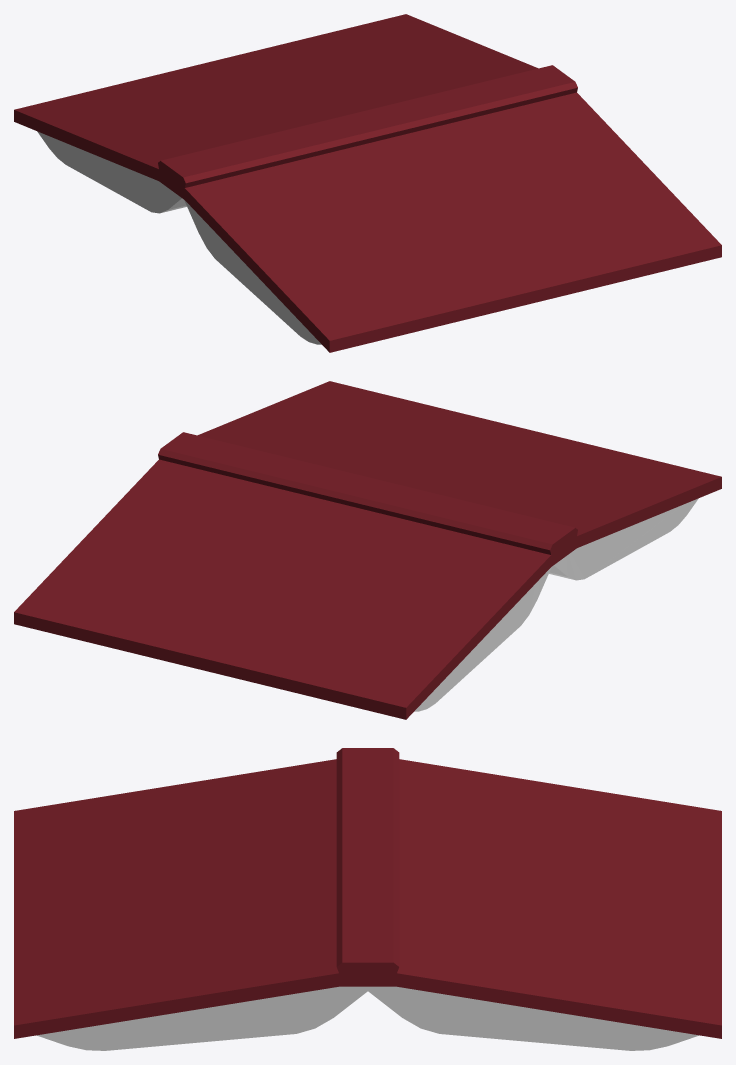
File: book_facedown.fbx
3 renders of one model, top to bottom at view 1: azimuth 30°, elevation 25°; view 2: azimuth 150°, elevation 25°; view 3: azimuth 270°, elevation 25°, orthographic. The views are drawn at different scales.
Parts seen in each view (by area): view 1: book_facedown; view 2: book_facedown; view 3: book_facedown.
Boxes of the visible parts, x1,y1,x2,y2 form: book_facedown: (14, 14, 721, 352); book_facedown: (14, 381, 721, 719); book_facedown: (14, 748, 721, 1050).
Bounding box in the file's own units: 29.33 × 6.03 × 40.91.
